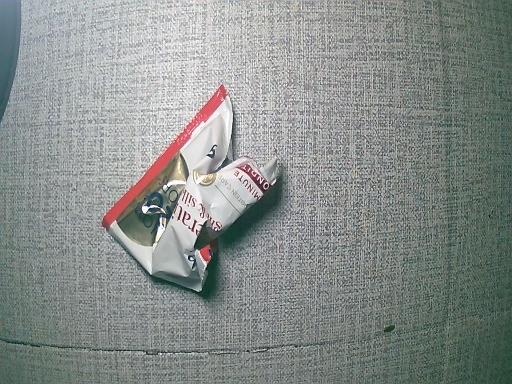plastic: (96, 79, 284, 298)
